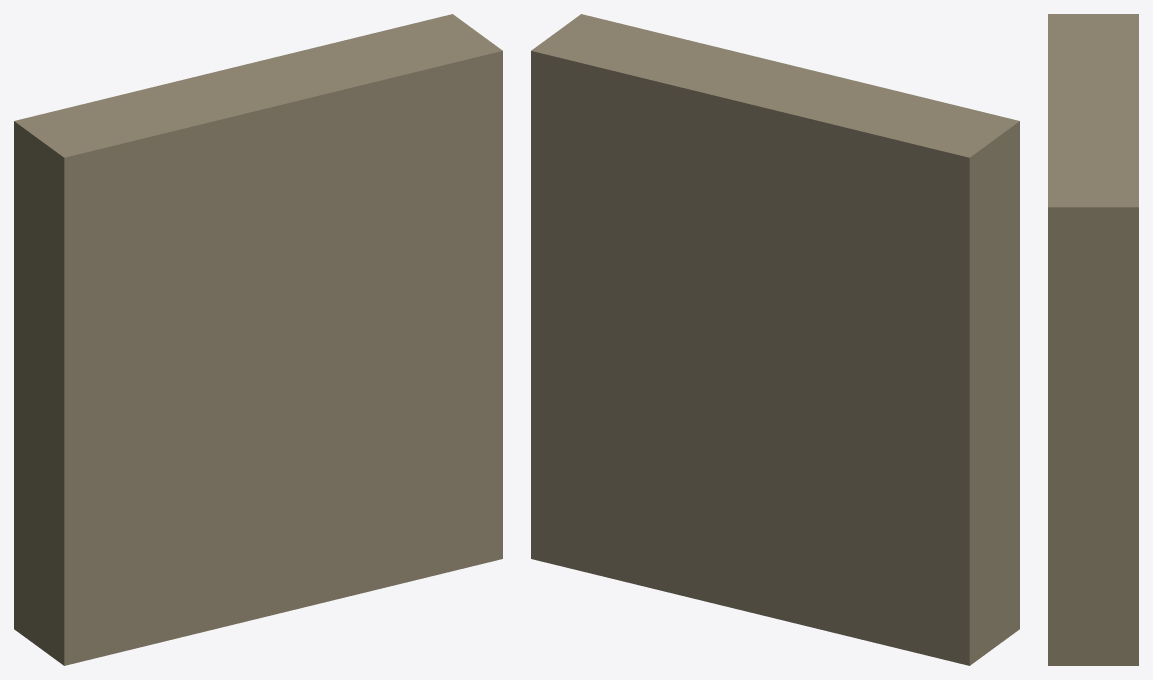
File: LateDoorPlugInnerWard.fbx
The picture shows the model from 3 angles, left to right: view 1: azimuth 30°, elevation 25°; view 2: azimuth 150°, elevation 25°; view 3: azimuth 270°, elevation 25°; orthographic projection. The views are drawn at different scales.
Visible parts, largest first — view 1: LateDoorPlugInnerWard; view 2: LateDoorPlugInnerWard; view 3: LateDoorPlugInnerWard.
Part boxes in pixels (x1=…): LateDoorPlugInnerWard: x1=14, y1=14, x2=502, y2=665; LateDoorPlugInnerWard: x1=531, y1=14, x2=1019, y2=665; LateDoorPlugInnerWard: x1=1048, y1=14, x2=1138, y2=665.
Bounding box in the file's own units: 262 × 290 × 52.
Materials: 1 (1 with a texture image).
